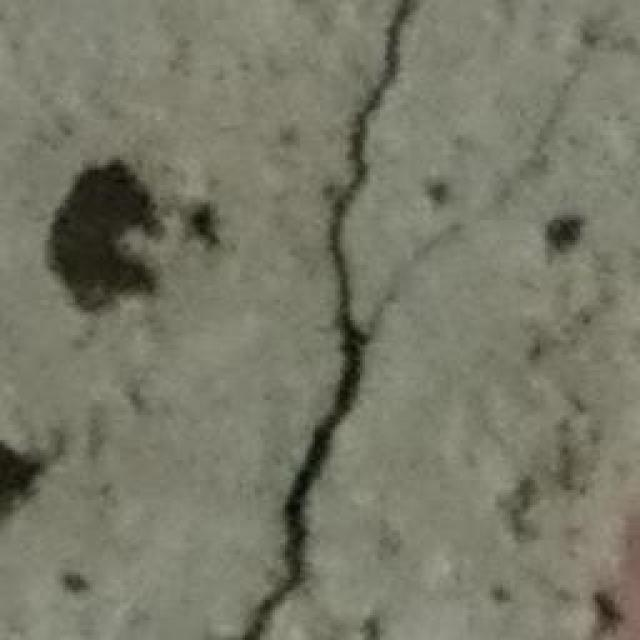Radial: (223, 0, 586, 640)
Turtle-shell patterned: (46, 153, 218, 343)
